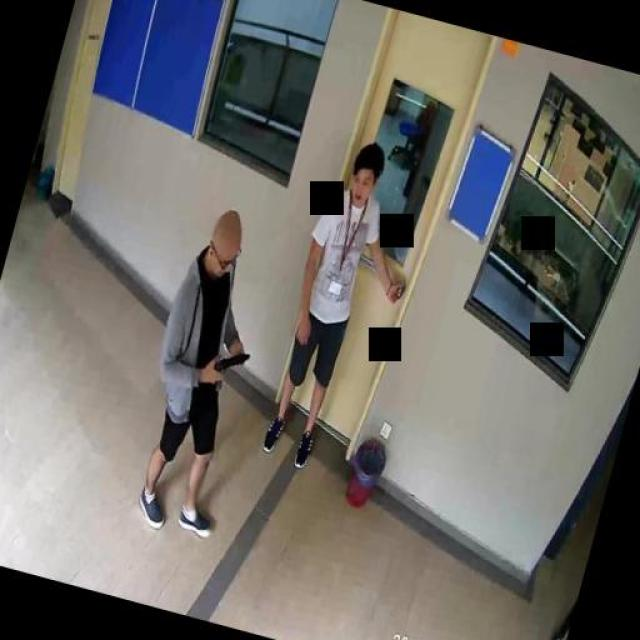gun: (209, 341, 249, 384)
